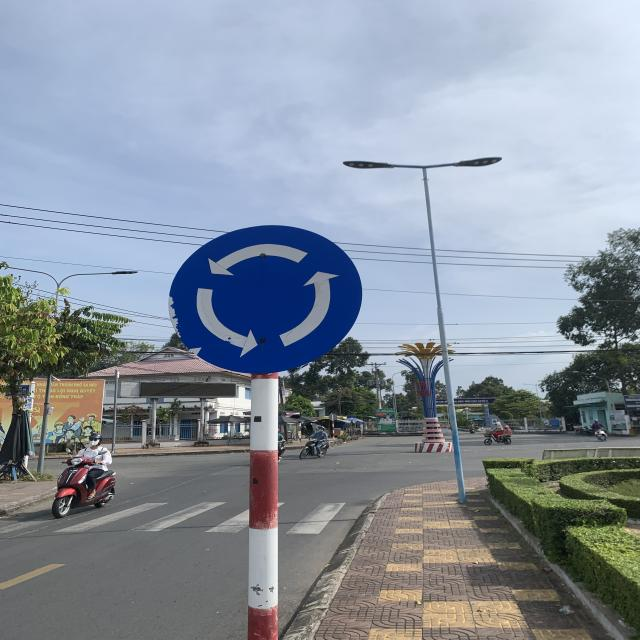Xe_Bus: (171, 224, 363, 376)
